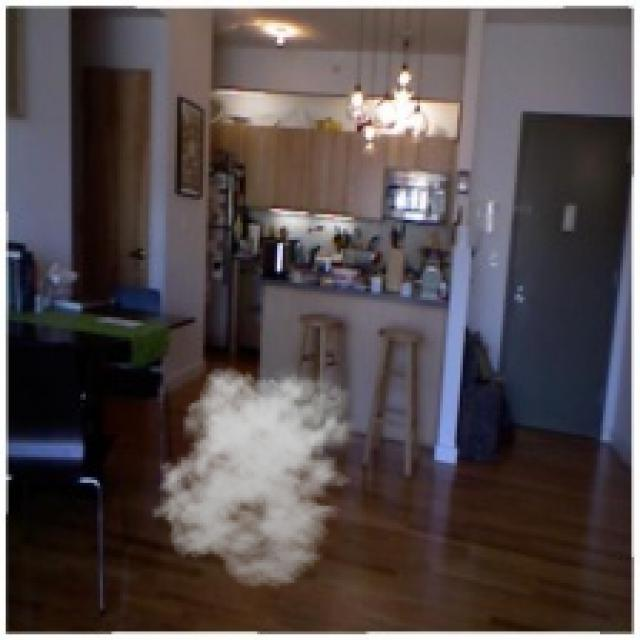smoke: (151, 360, 366, 589)
